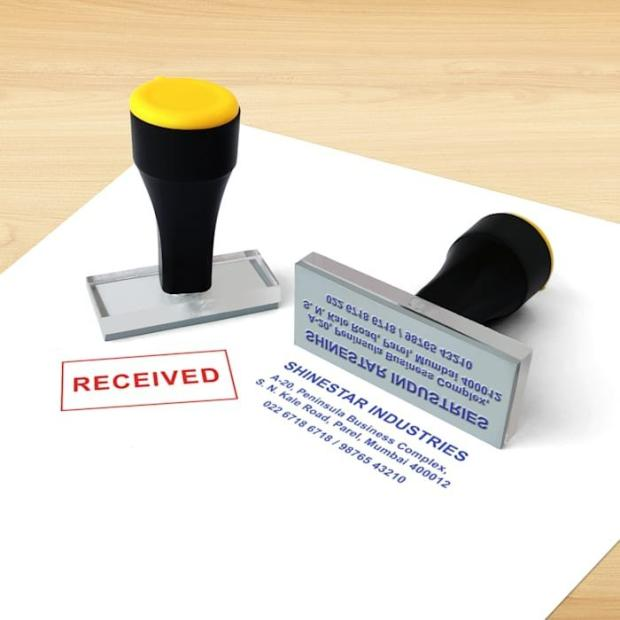Ink-stamps: (50, 347, 242, 418)
